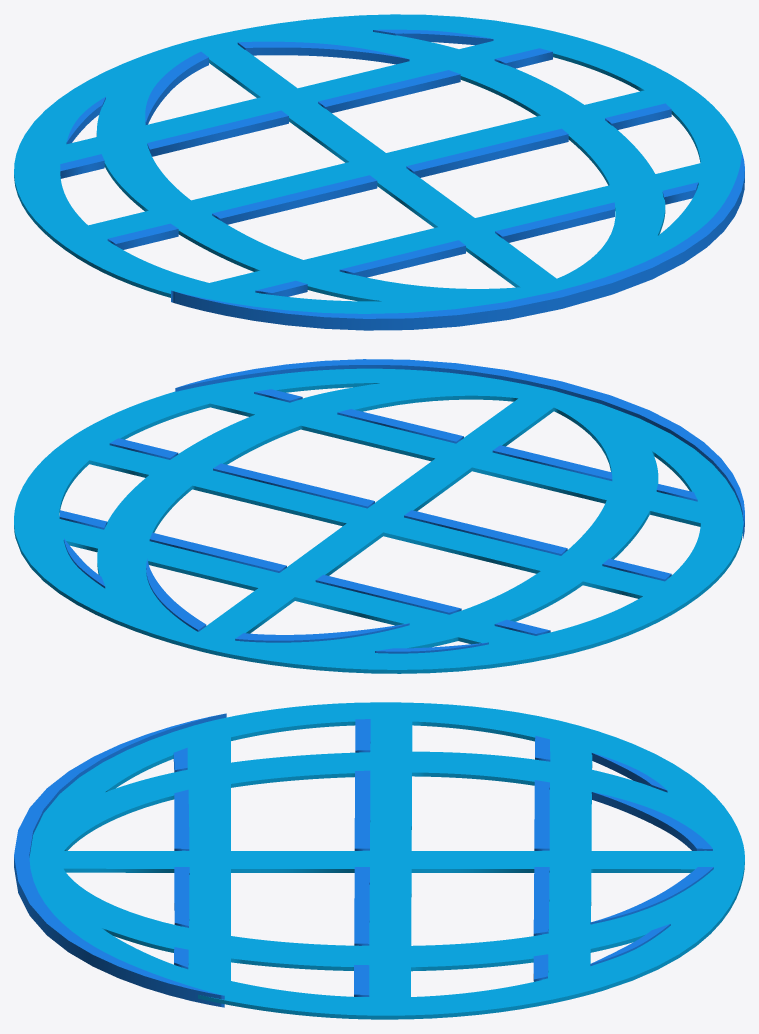
The model's file is emoji_u1f310.glb.
The picture shows the model from 3 angles, top to bottom: view 1: azimuth 30°, elevation 25°; view 2: azimuth 150°, elevation 25°; view 3: azimuth 270°, elevation 25°; orthographic projection.
Parts seen in each view (by area): view 1: emoji_u1f310; view 2: emoji_u1f310; view 3: emoji_u1f310.
Boxes of the visible parts, x1,y1,x2,y2 form: emoji_u1f310: (14,14,744,330); emoji_u1f310: (14,359,744,673); emoji_u1f310: (14,702,744,1019).
Size of the model in its own units: 0.0341 by 0.0006 by 0.0336.
